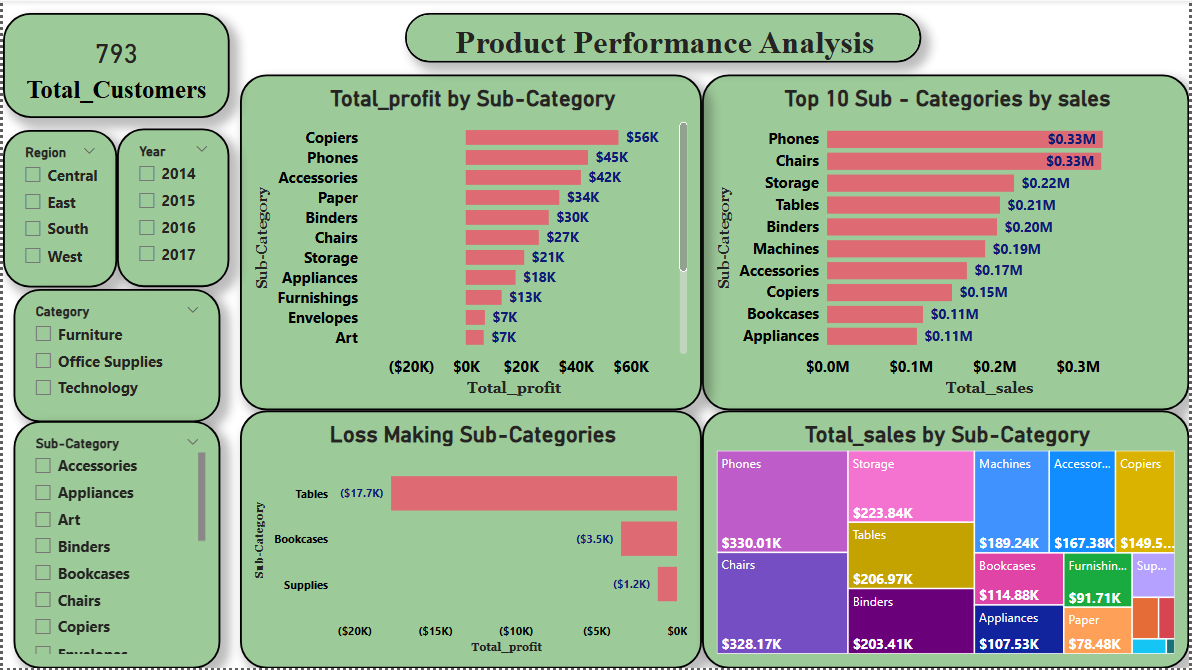

What the dashboard file says about the page in this screenshot:
{"tool":"powerbi","page":{"name":"Product Analysis","canvas":[1280,720],"ordinal":2},"visuals":[{"type":"clusteredBarChart","title":"Top 10 Sub - Categories by sales","fields":{"Category":["cleaned_ecommerce_sales.Sub-Category"],"Y":["Measures (2).Total_sales"]},"box":[754.6,79.3,526.2,362.7],"z":0},{"type":"clusteredBarChart","fields":{"Category":["cleaned_ecommerce_sales.Sub-Category"],"Y":["Measures (2).Total_profit"]},"box":[255.8,79.3,498.7,362.7],"z":1000},{"type":"clusteredBarChart","title":"Loss Making Sub-Categories","fields":{"Category":["cleaned_ecommerce_sales.Sub-Category"],"Y":["Measures (2).Total_profit"]},"box":[255.8,442,498.7,278.5],"z":2000},{"type":"treemap","fields":{"Group":["cleaned_ecommerce_sales.Sub-Category"],"Values":["Measures (2).Total_sales"]},"box":[754.6,442,526.2,278.5],"z":3000},{"type":"card","fields":{"Values":["Measures (2).Total_Customers"]},"box":[0,13,244.5,113.3],"z":4000},{"type":"textbox","title":"Product Performance Analysis ","box":[434,13,557,53.4],"z":5000},{"type":"slicer","fields":{"Values":["cleaned_ecommerce_sales.Region"]},"box":[0,139.3,123.1,170],"z":6000},{"type":"slicer","fields":{"Values":["cleaned_ecommerce_sales.Year"]},"box":[123.1,137.6,121.4,171.6],"z":7000},{"type":"slicer","fields":{"Values":["cleaned_ecommerce_sales.Category"]},"box":[11.3,310.9,223.5,144.1],"z":8000},{"type":"slicer","fields":{"Values":["cleaned_ecommerce_sales.Sub-Category"]},"box":[11.3,453.4,223.5,267.2],"z":9000}]}

Visuals, with their boxes in screenshot pixels (x1, y1, x2, y2), scaled from the page's 1280x720 canvas onto the 1192x670 screenshot:
"Top 10 Sub - Categories by sales" clusteredBarChart: left=703, top=74, right=1191, bottom=411
clusteredBarChart - cleaned_ecommerce_sales.Sub-Category x Measures (2).Total_profit: left=238, top=74, right=703, bottom=411
"Loss Making Sub-Categories" clusteredBarChart: left=238, top=411, right=703, bottom=669
treemap - cleaned_ecommerce_sales.Sub-Category x Measures (2).Total_sales: left=703, top=411, right=1191, bottom=669
card - Measures (2).Total_Customers: left=0, top=12, right=228, bottom=118
"Product Performance Analysis " textbox: left=404, top=12, right=923, bottom=62
slicer - cleaned_ecommerce_sales.Region: left=0, top=130, right=115, bottom=288
slicer - cleaned_ecommerce_sales.Year: left=115, top=128, right=228, bottom=288
slicer - cleaned_ecommerce_sales.Category: left=11, top=289, right=219, bottom=423
slicer - cleaned_ecommerce_sales.Sub-Category: left=11, top=422, right=219, bottom=669
